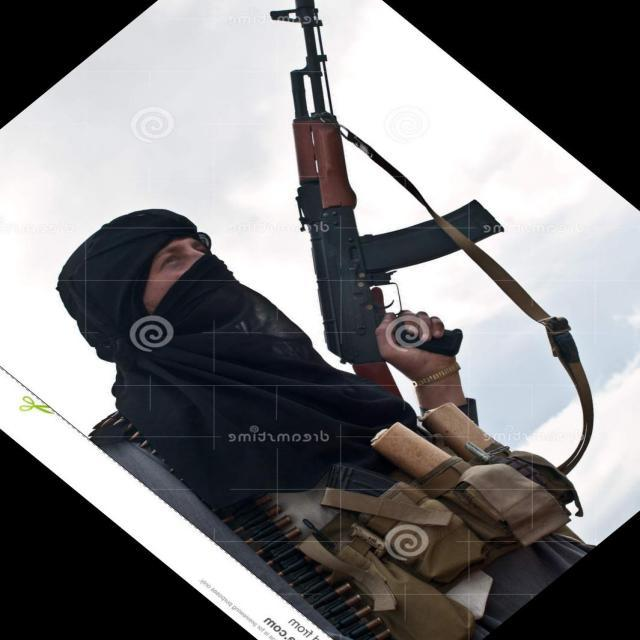weapon: (269, 0, 505, 399)
